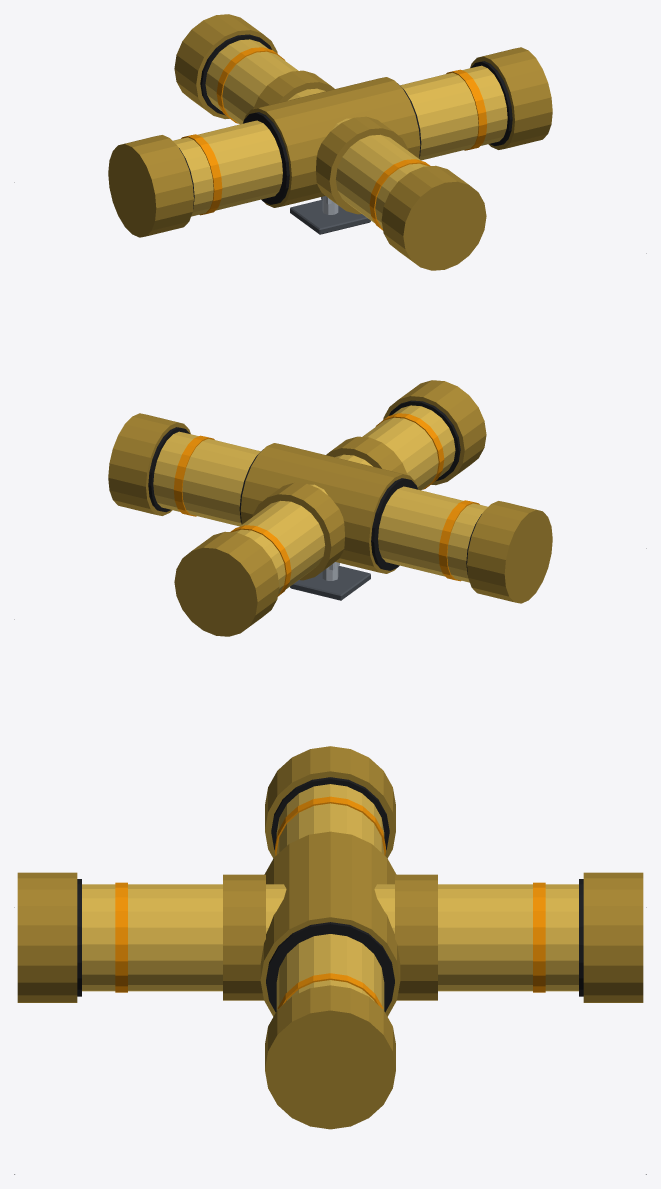
Rendered from tuyau_croix_t2.glb.
The picture shows the model from 3 angles, top to bottom: view 1: azimuth 30°, elevation 25°; view 2: azimuth 150°, elevation 25°; view 3: azimuth 270°, elevation 25°; orthographic projection. The views are drawn at different scales.
Visible parts, largest first — view 1: pieces_laiton_sombre.014, pieces_laiton.014, pieces_rive_t2.016, pieces_noir.022, pieces_acier_sombre.050; view 2: pieces_laiton_sombre.014, pieces_laiton.014, pieces_rive_t2.016, pieces_noir.022, pieces_acier_sombre.050; view 3: pieces_laiton_sombre.014, pieces_laiton.014, pieces_noir.022, pieces_rive_t2.016.
Boxes of the visible parts, bbox=[...] form: pieces_laiton_sombre.014: bbox=[108, 14, 552, 270]; pieces_laiton.014: bbox=[173, 39, 507, 228]; pieces_rive_t2.016: bbox=[181, 47, 487, 230]; pieces_noir.022: bbox=[179, 34, 512, 208]; pieces_acier_sombre.050: bbox=[290, 200, 370, 234]; pieces_laiton_sombre.014: bbox=[108, 380, 552, 636]; pieces_laiton.014: bbox=[153, 405, 487, 594]; pieces_rive_t2.016: bbox=[173, 413, 479, 596]; pieces_noir.022: bbox=[148, 400, 481, 574]; pieces_acier_sombre.050: bbox=[290, 566, 370, 600]; pieces_laiton_sombre.014: bbox=[17, 746, 643, 1129]; pieces_laiton.014: bbox=[82, 784, 578, 1010]; pieces_noir.022: bbox=[77, 777, 583, 1012]; pieces_rive_t2.016: bbox=[115, 796, 545, 1008].
Size of the model in its own units: 1 by 0.2905 by 1.
